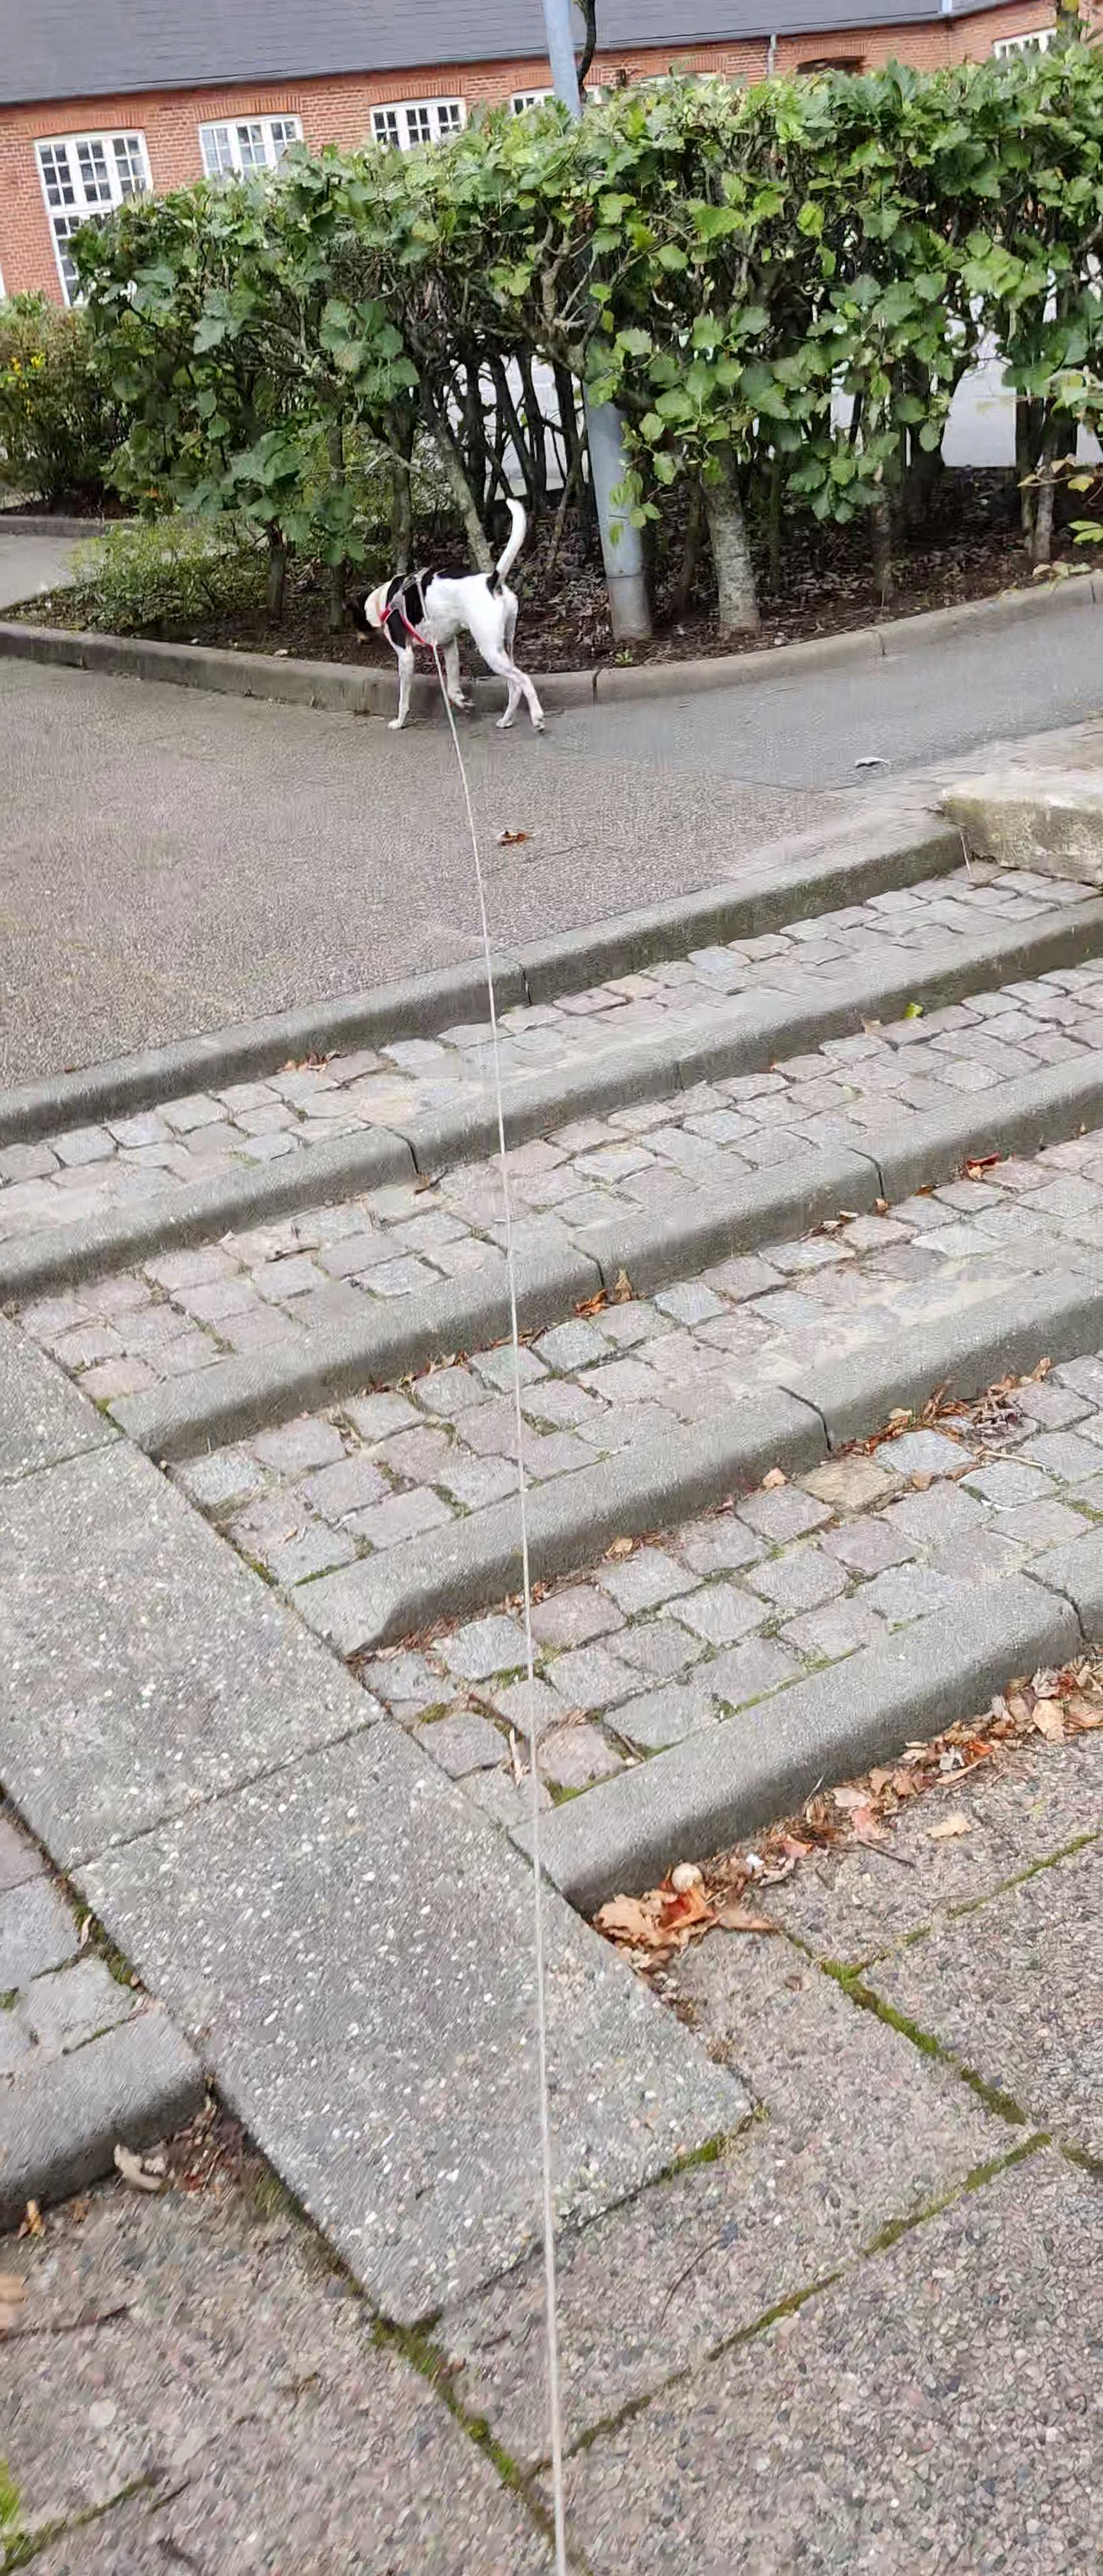Dog: (335, 494, 559, 733)
